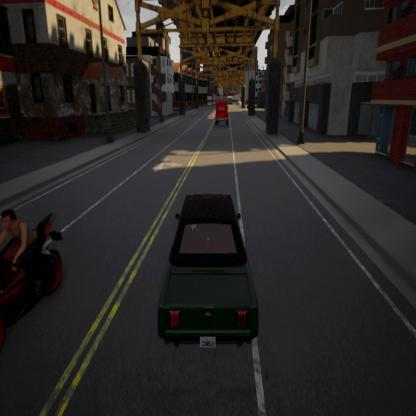Cars: (148, 182, 266, 358), (210, 96, 233, 130)
